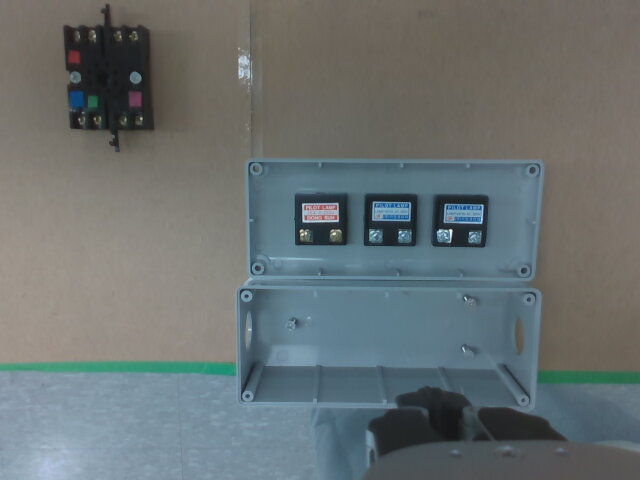L1(1): (299, 229, 313, 241)
L1(2): (328, 229, 342, 242)
L2(1): (369, 230, 383, 243)
L2(2): (398, 229, 411, 243)
L3(1): (437, 229, 451, 242)
L3(2): (467, 230, 481, 243)
